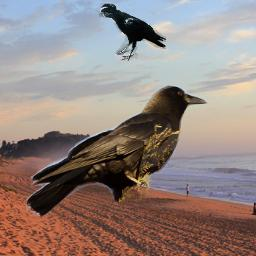Crow: (26, 81, 211, 222), (99, 3, 166, 61)
